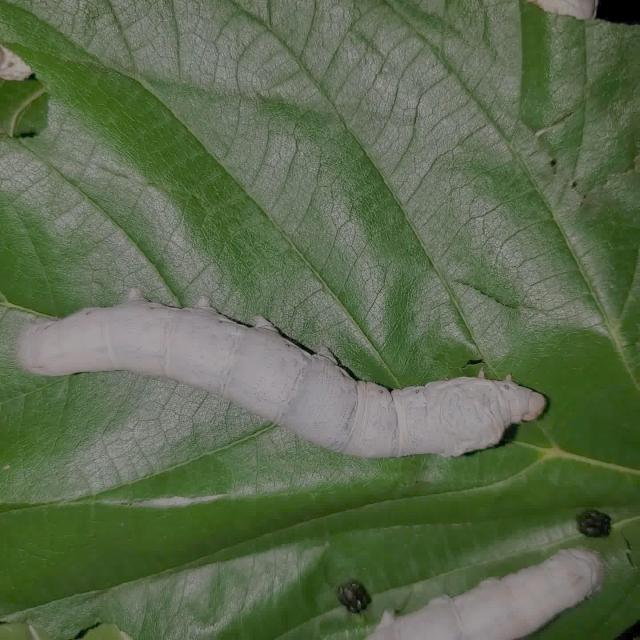Healthy: (5, 267, 553, 478)
